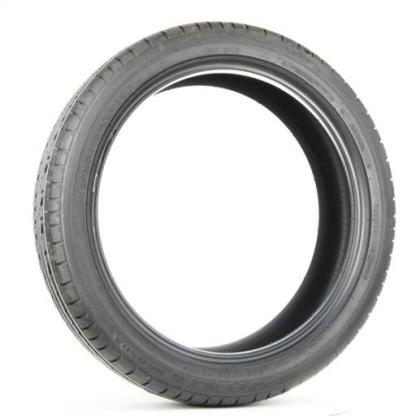Tire: (31, 21, 397, 410)
